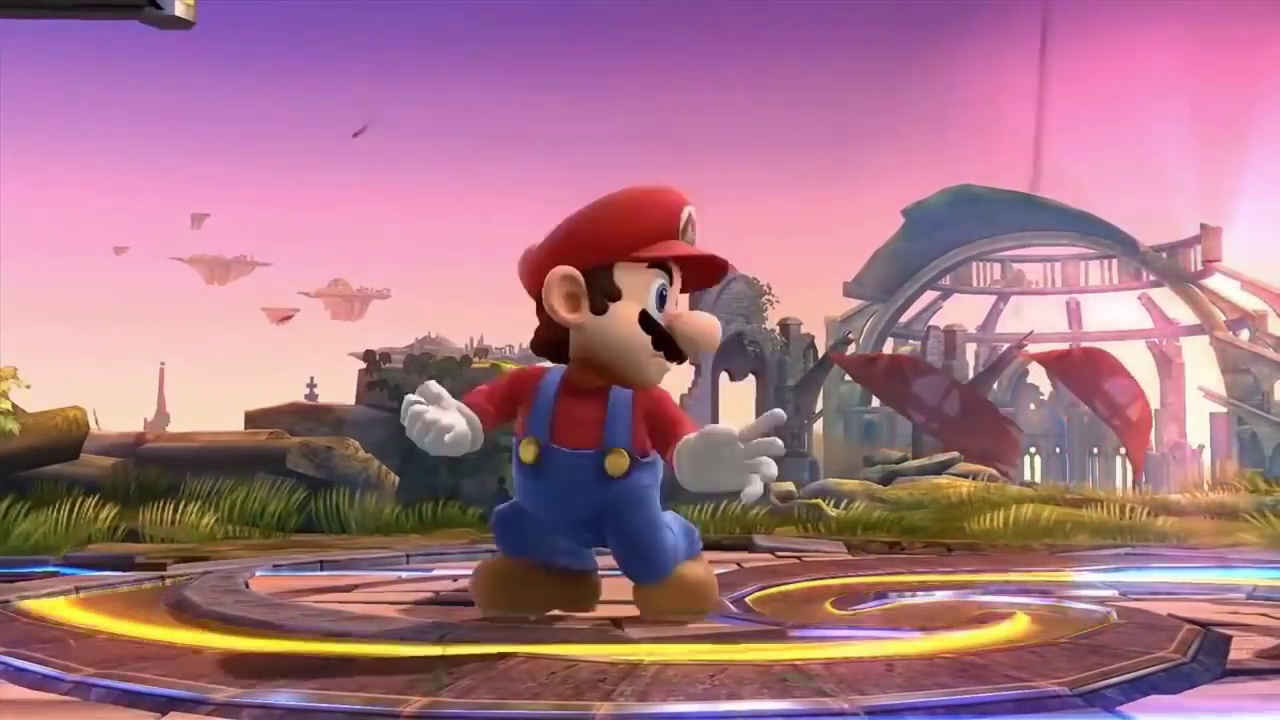Mario: (401, 186, 787, 611)
